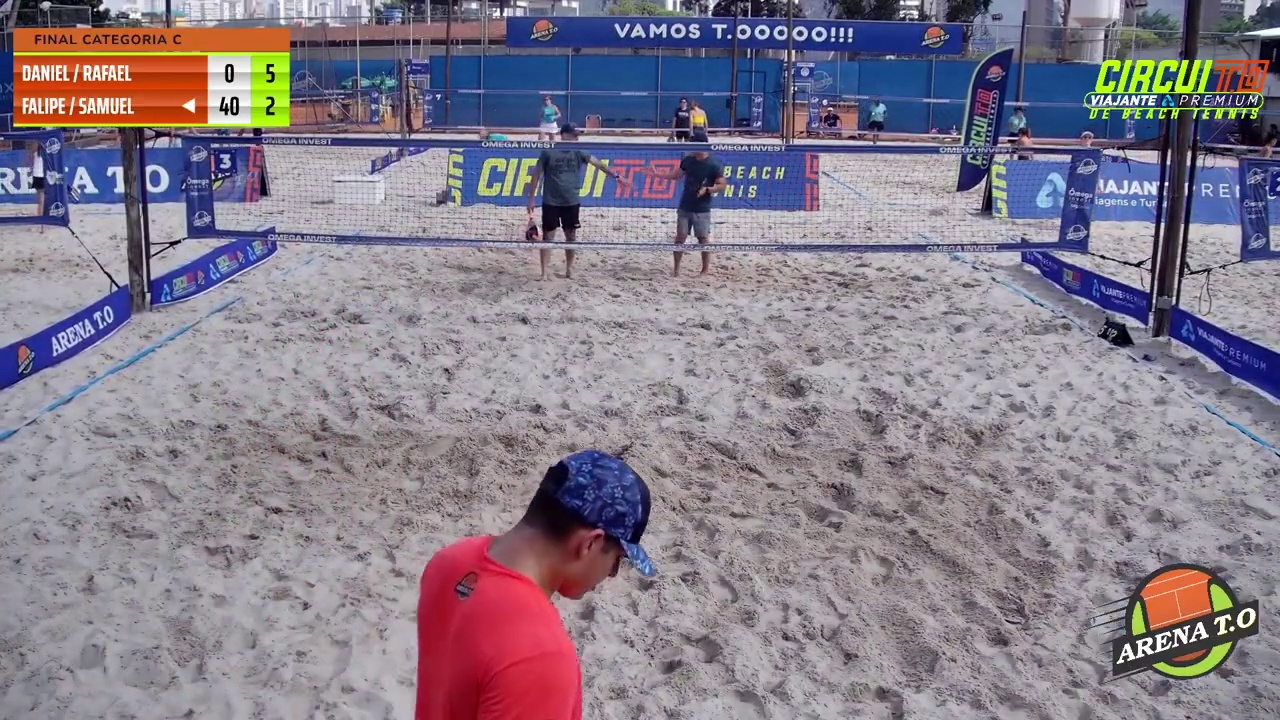court_line: (632, 0, 801, 408)
